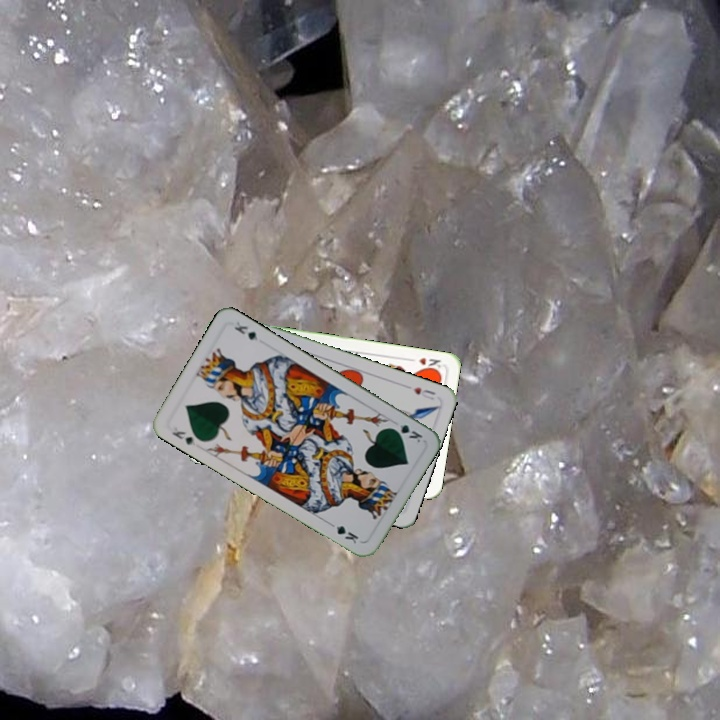GK: (386, 420, 425, 445), (168, 423, 198, 448)
HK: (404, 353, 444, 374)
HU: (409, 383, 438, 403)
